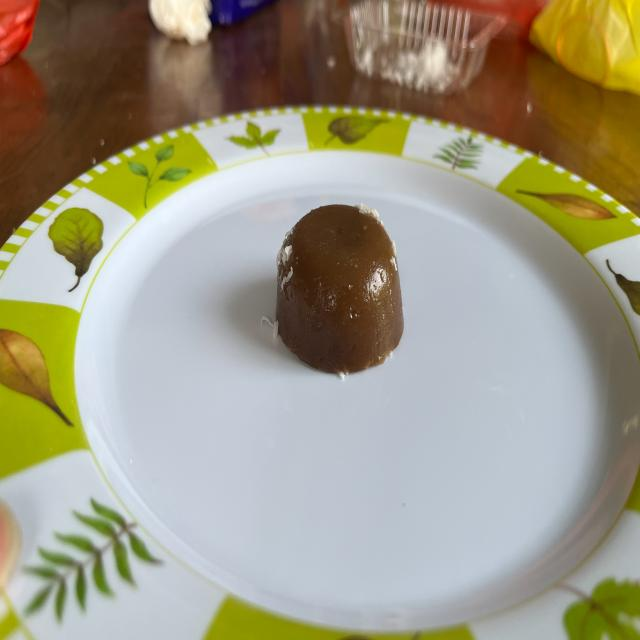Kuih lompang: (275, 204, 404, 373)
